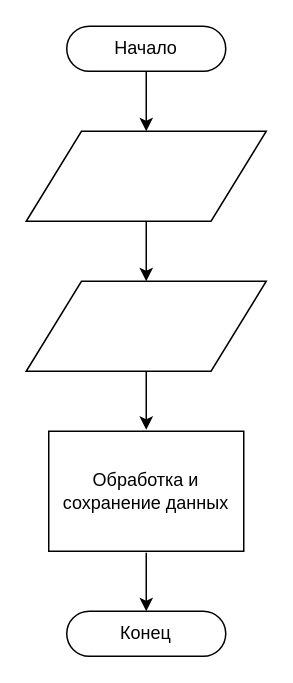
This 293x683 diagram has some shape labels left out. Here are the shapes that lost their labels. From the top down, the box of each, then its label:
(25, 130, 266, 221): Ввод ограничений суставов
(25, 280, 266, 371): Ввод длин конечностей
